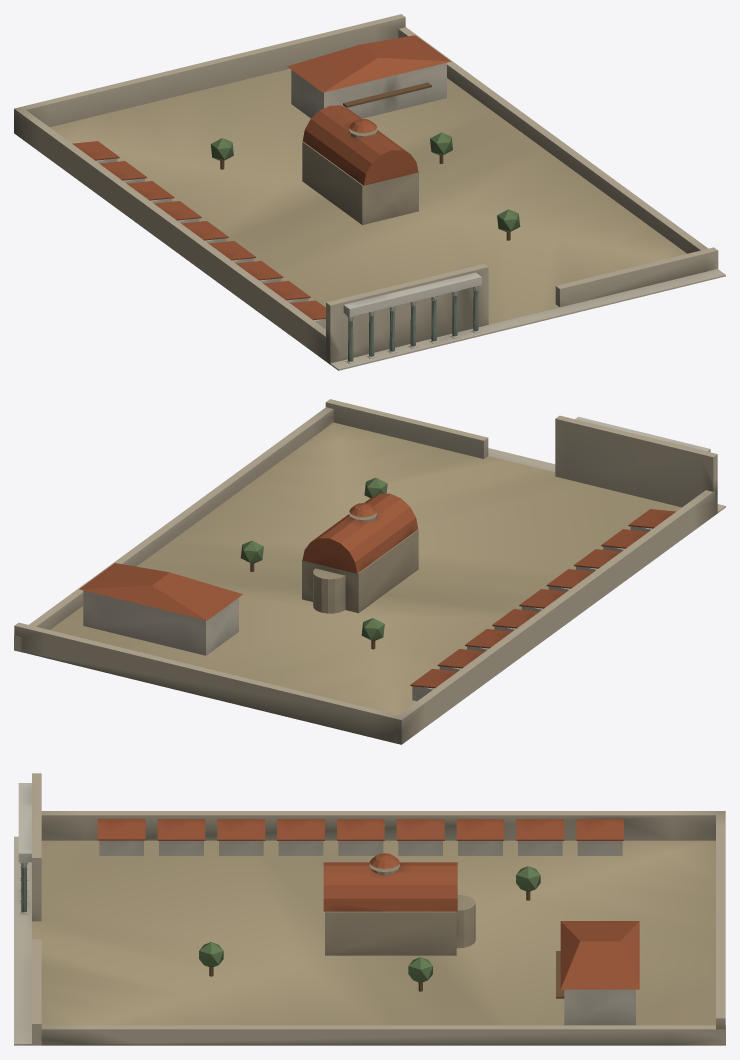
Rendered from hadrians-library-ruin.glb.
3 renders of one model, top to bottom at view 1: azimuth 30°, elevation 25°; view 2: azimuth 150°, elevation 25°; view 3: azimuth 270°, elevation 25°, orthographic. The views are drawn at different scales.
Parts seen in each view (by area): view 1: p0_court, p1_court, p2_roofs; view 2: p0_court, p1_court, p2_roofs; view 3: p0_court, p1_court, p2_roofs.
Boxes of the visible parts, left/top/right/bottom form: p0_court: left=14, top=14, right=725, bottom=370; p1_court: left=95, top=62, right=480, bottom=363; p2_roofs: left=72, top=35, right=520, bottom=320; p0_court: left=14, top=399, right=725, bottom=744; p1_court: left=83, top=493, right=652, bottom=701; p2_roofs: left=79, top=416, right=710, bottom=688; p0_court: left=14, top=773, right=725, bottom=1045; p1_court: left=20, top=840, right=635, bottom=1025; p2_roofs: left=18, top=783, right=639, bottom=991.
Bounding box in the file's own units: 82.1 × 15.99 × 119.
